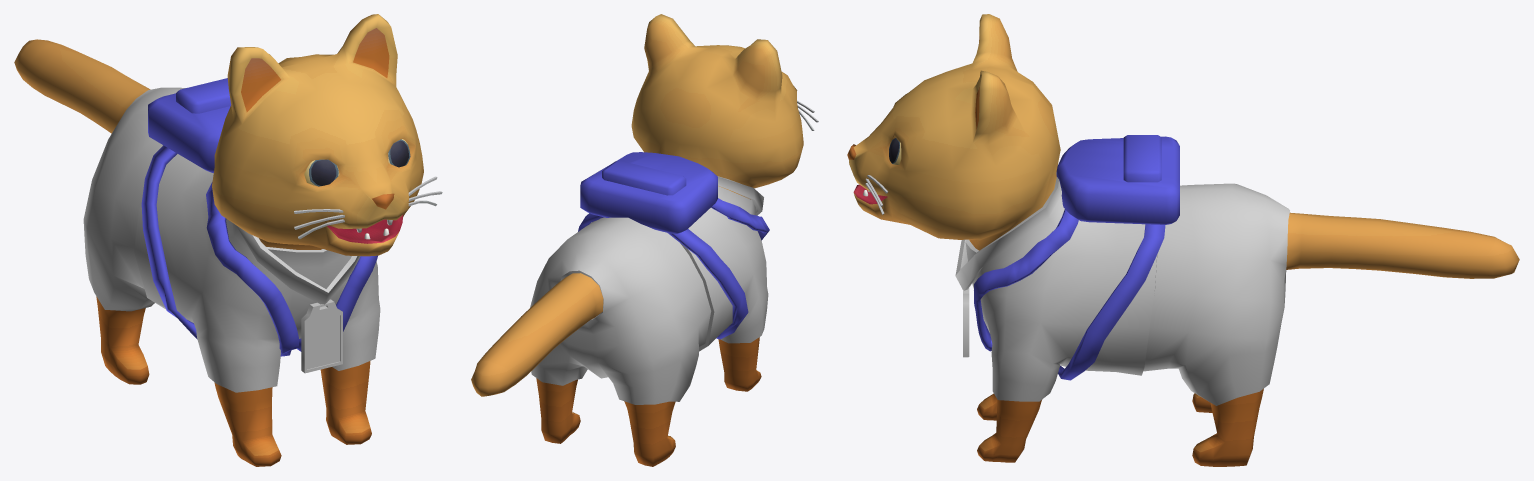
The model's file is Student Cat_Backpack.obj.
The picture shows the model from 3 angles, left to right: view 1: azimuth 30°, elevation 25°; view 2: azimuth 150°, elevation 25°; view 3: azimuth 270°, elevation 25°; orthographic projection. The views are drawn at different scales.
Parts seen in each view (by area): view 1: Cat001, Clothes, Backpack; view 2: Cat001, Clothes, Backpack; view 3: Clothes, Cat001, Backpack.
Boxes of the visible parts, left/top/right/bottom form: Cat001: left=14, top=14, right=442, bottom=466; Clothes: left=83, top=87, right=380, bottom=392; Backpack: left=141, top=78, right=377, bottom=356; Cat001: left=471, top=14, right=818, bottom=466; Clothes: left=530, top=176, right=768, bottom=404; Backpack: left=578, top=152, right=769, bottom=339; Clothes: left=955, top=165, right=1289, bottom=405; Cat001: left=847, top=14, right=1519, bottom=466; Backpack: left=974, top=135, right=1179, bottom=380.
Bounding box in the file's own units: 70.69 × 146 × 227.
